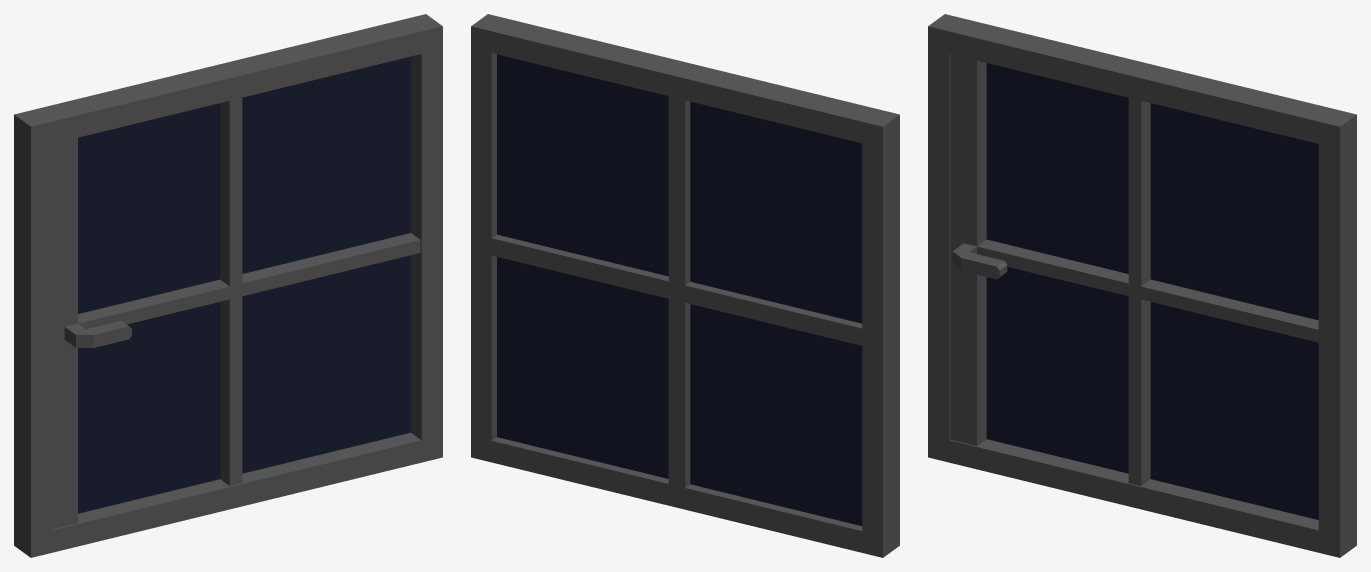
The model's file is Window1_1.fbx.
3 renders of one model, left to right at view 1: azimuth 30°, elevation 25°; view 2: azimuth 150°, elevation 25°; view 3: azimuth 330°, elevation 25°, orthographic.
Visible parts, largest first — view 1: Cube; view 2: Cube; view 3: Cube.
Part boxes in pixels (left/top/right/bottom): Cube: left=14, top=14, right=442, bottom=557; Cube: left=471, top=14, right=899, bottom=557; Cube: left=928, top=14, right=1356, bottom=557.
Bounding box in the file's own units: 200 × 200 × 26.62.
